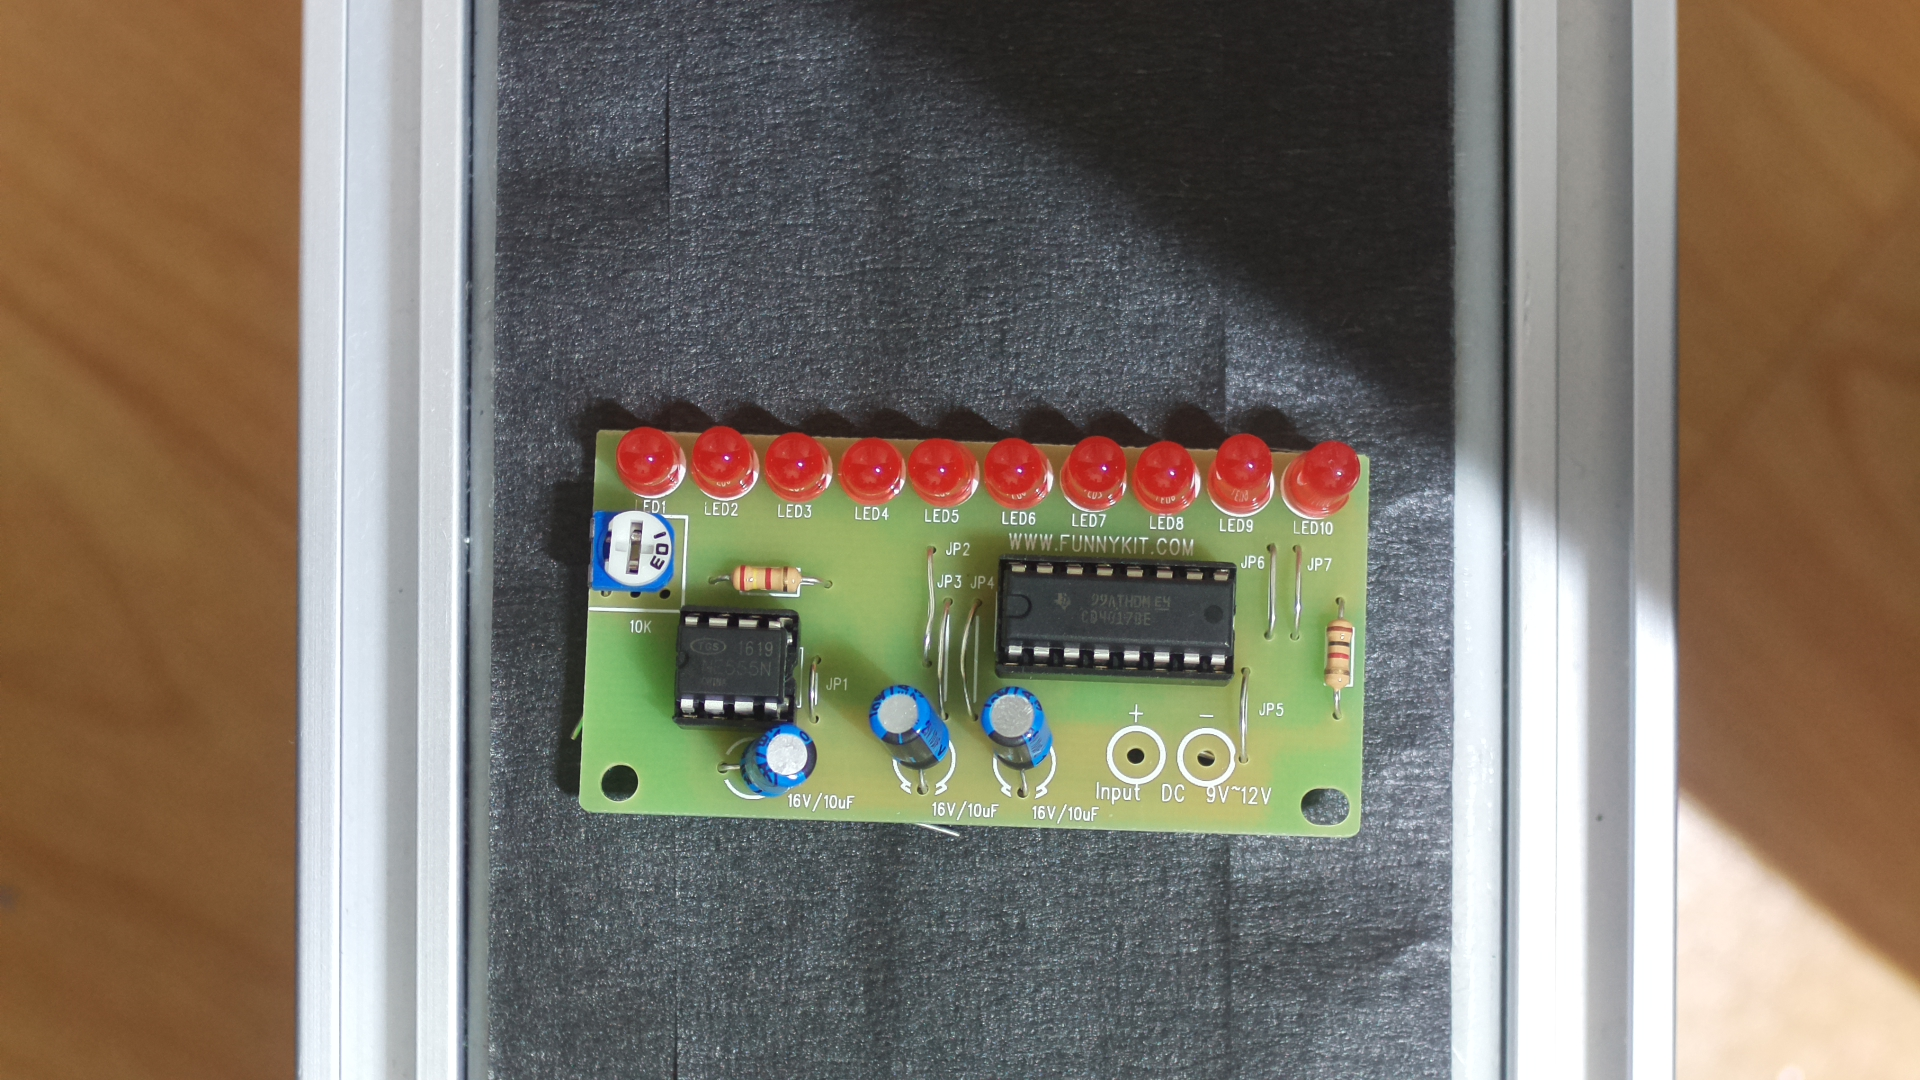B_Normal: (567, 405, 1382, 852)
